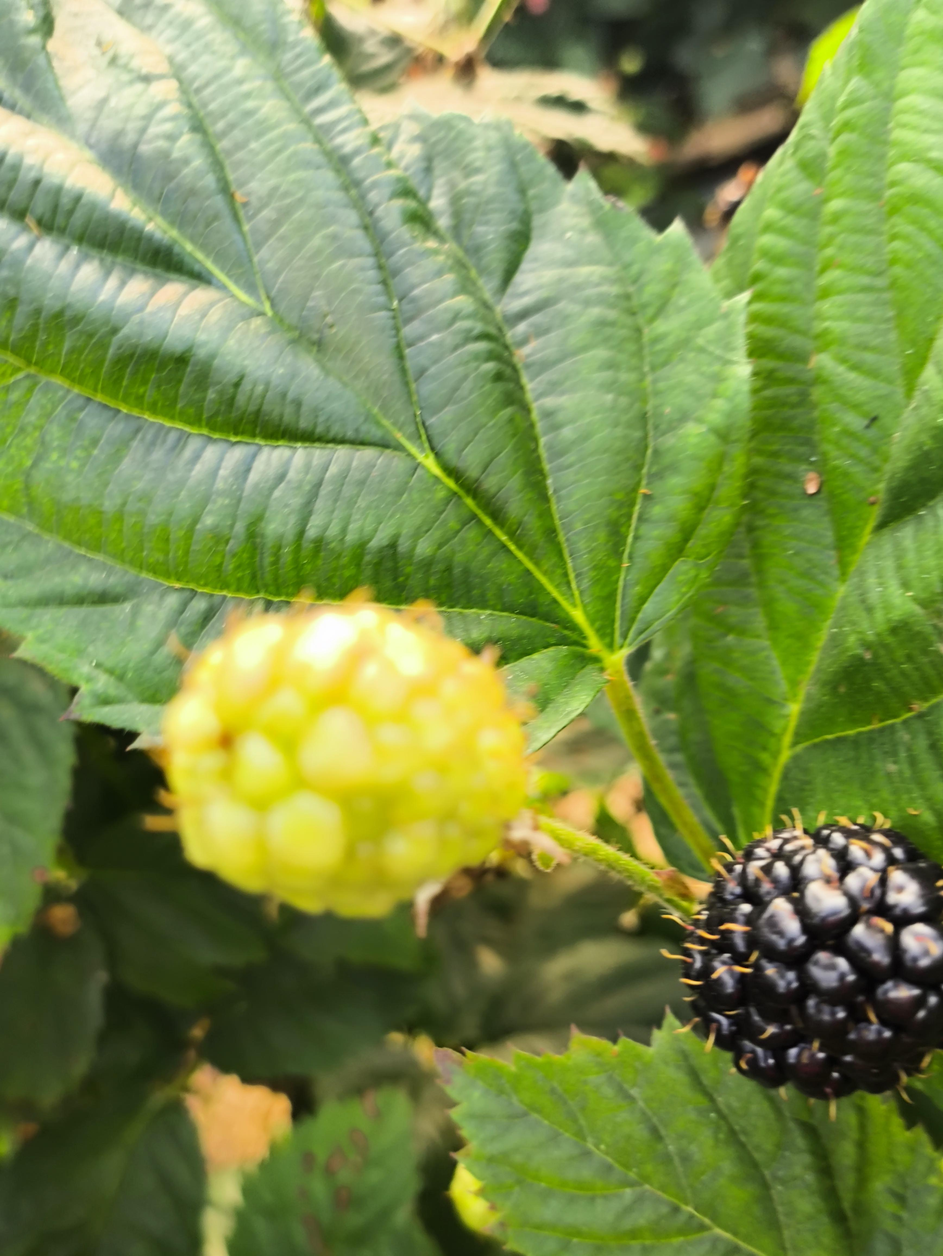maduro: (675, 819, 943, 1103)
verde: (162, 601, 527, 916)
